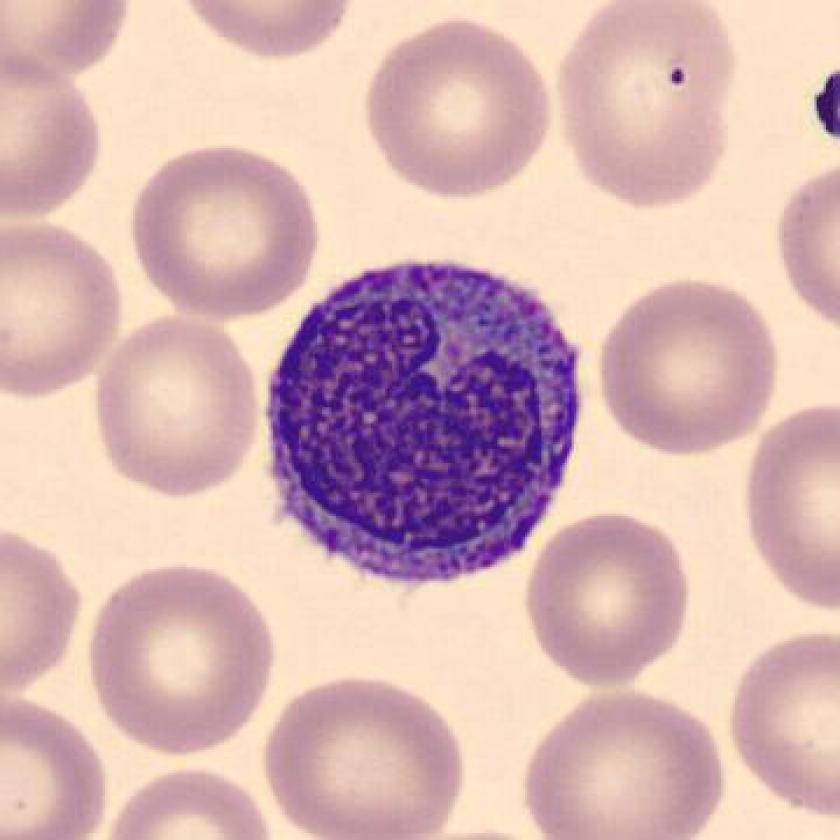monocyte: (251, 237, 605, 603)
